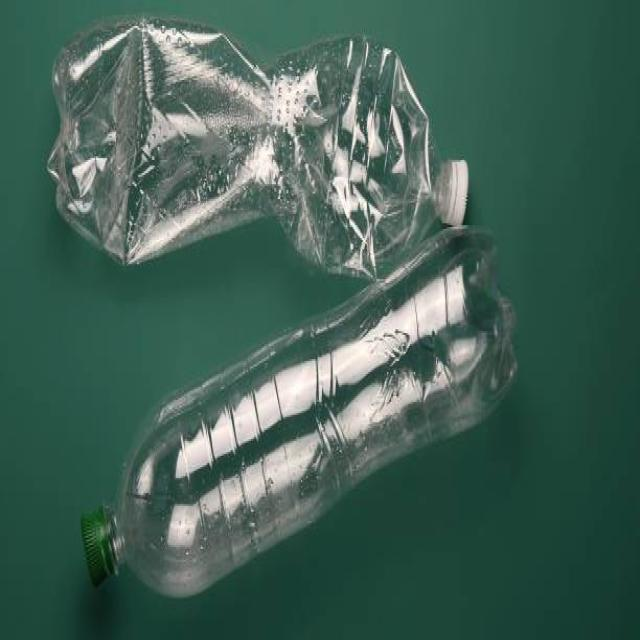plastic: (80, 249, 536, 603), (42, 37, 484, 266)
